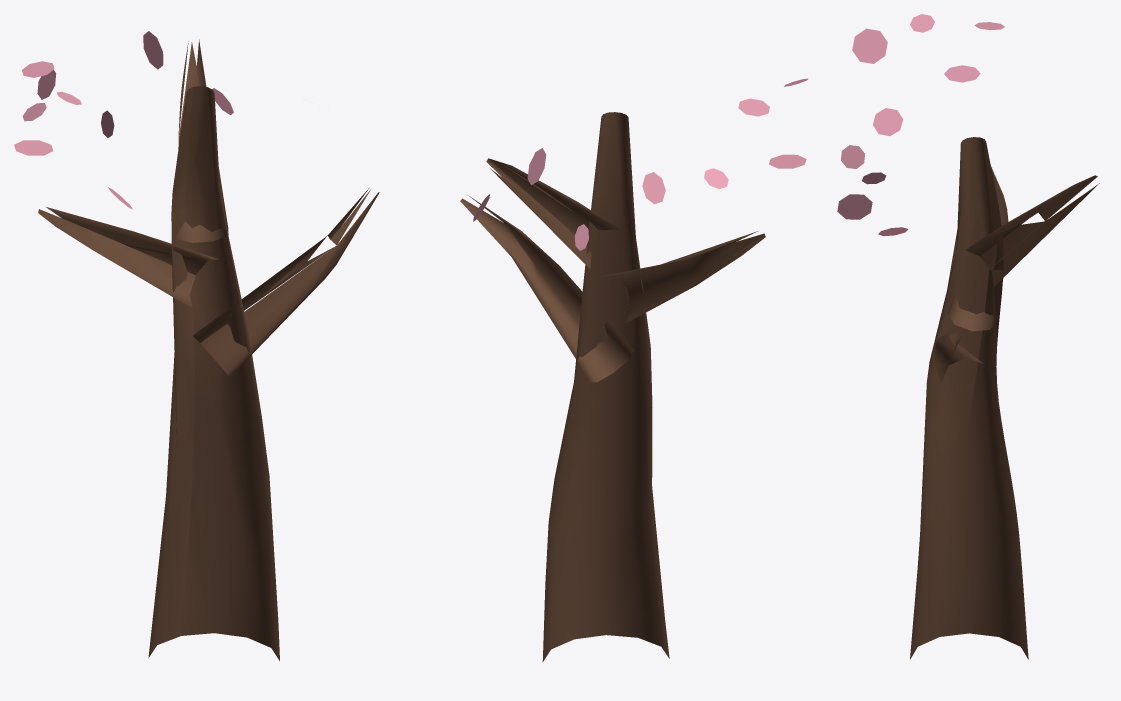
File: tree_2_lod1.glb
3 renders of one model, left to right at view 1: azimuth 30°, elevation 25°; view 2: azimuth 150°, elevation 25°; view 3: azimuth 270°, elevation 25°, orthographic. The views are drawn at different scales.
Parts seen in each view (by area): view 1: tree_trunk, tree_branch_0, tree_branch_1, tree_variant_2, tree_branch_2; view 2: tree_trunk, tree_branch_0, tree_branch_1, tree_branch_2, tree_variant_2; view 3: tree_trunk, tree_variant_2, tree_branch_2, tree_branch_1, tree_branch_0.
Part boxes in pixels (x1,y1,x2,y2): tree_trunk: [148, 86, 279, 660]; tree_branch_0: [193, 187, 379, 377]; tree_branch_1: [38, 207, 218, 308]; tree_variant_2: [14, 31, 233, 209]; tree_branch_2: [176, 39, 228, 242]; tree_trunk: [542, 112, 669, 661]; tree_branch_0: [460, 195, 634, 382]; tree_branch_1: [599, 231, 765, 323]; tree_branch_2: [486, 158, 619, 268]; tree_variant_2: [473, 78, 808, 250]; tree_trunk: [910, 137, 1028, 659]; tree_variant_2: [837, 14, 1004, 236]; tree_branch_2: [965, 175, 1099, 286]; tree_branch_1: [947, 166, 1008, 331]; tree_branch_0: [934, 330, 983, 382].
Bounding box in the file's own units: 2.76 × 4.5 × 1.9.
